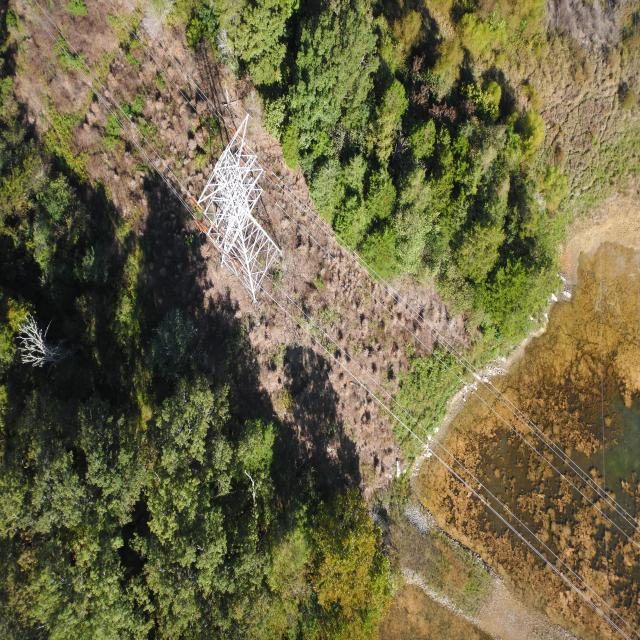Area of Interest: (226, 0, 555, 304), (4, 397, 391, 635)
